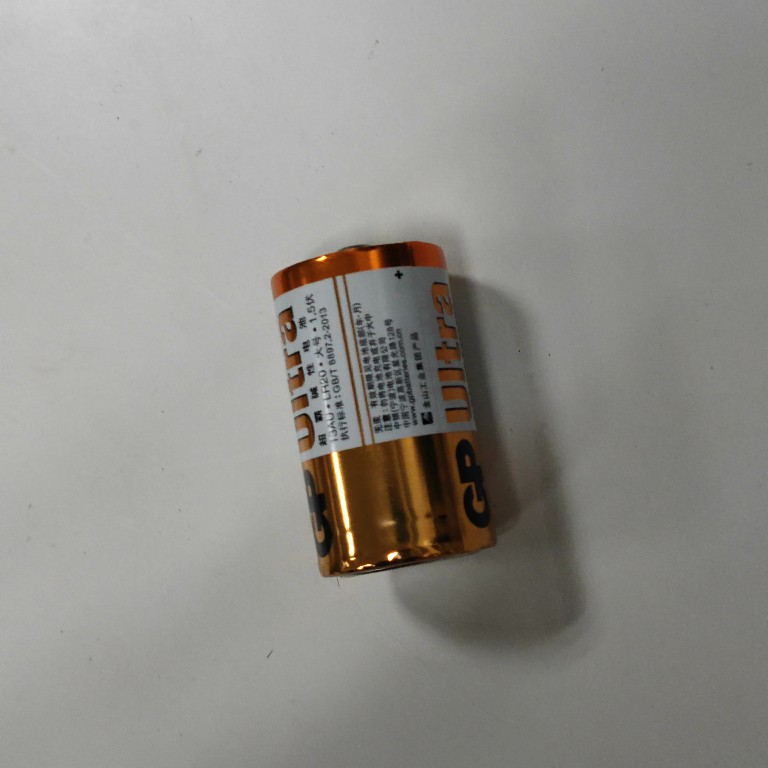charge: (264, 239, 503, 583)
